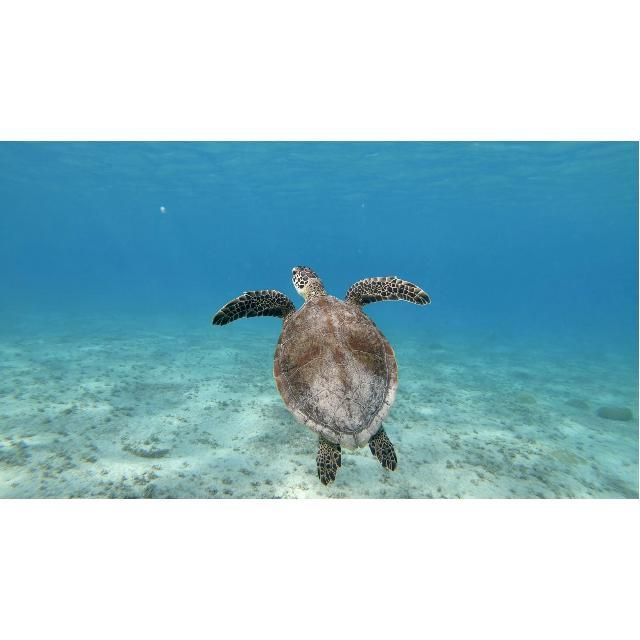turtle: (212, 266, 432, 486)
